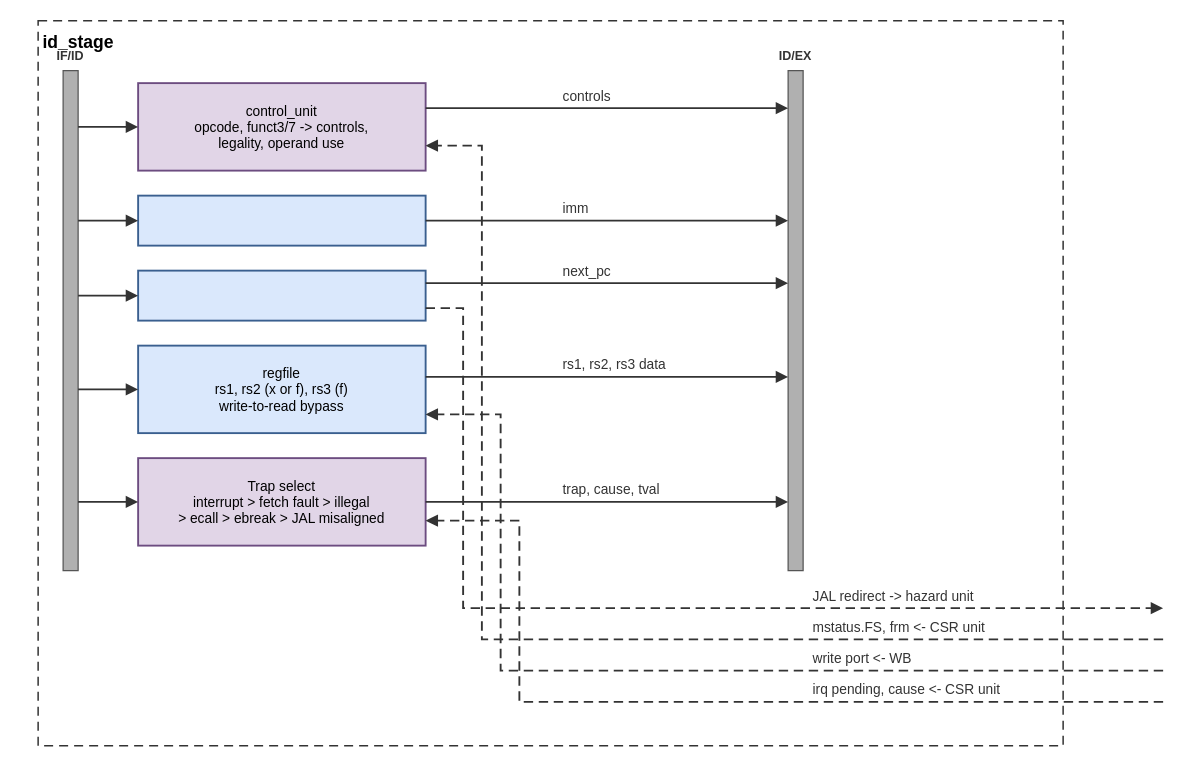
Image size: 1184x766. Some labels were removed from this diagram. Each missing label, with the box of its shape:
imm_decoder (I, S, B, U, J): (137, 194, 426, 246)
JAL target = pc + imm: (137, 269, 426, 321)
